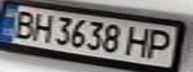3: (84, 19, 106, 52), (51, 14, 72, 47)
6: (66, 17, 87, 50)
8: (103, 20, 127, 55)
B: (6, 8, 39, 39)
H: (124, 25, 157, 58), (27, 11, 57, 43)
P: (142, 27, 178, 60)
